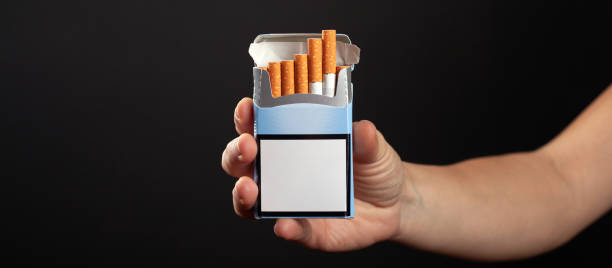cigarette: (247, 32, 362, 220), (322, 28, 337, 96), (307, 37, 323, 96), (295, 52, 309, 95), (267, 59, 281, 99), (281, 59, 295, 96), (337, 65, 350, 74)
